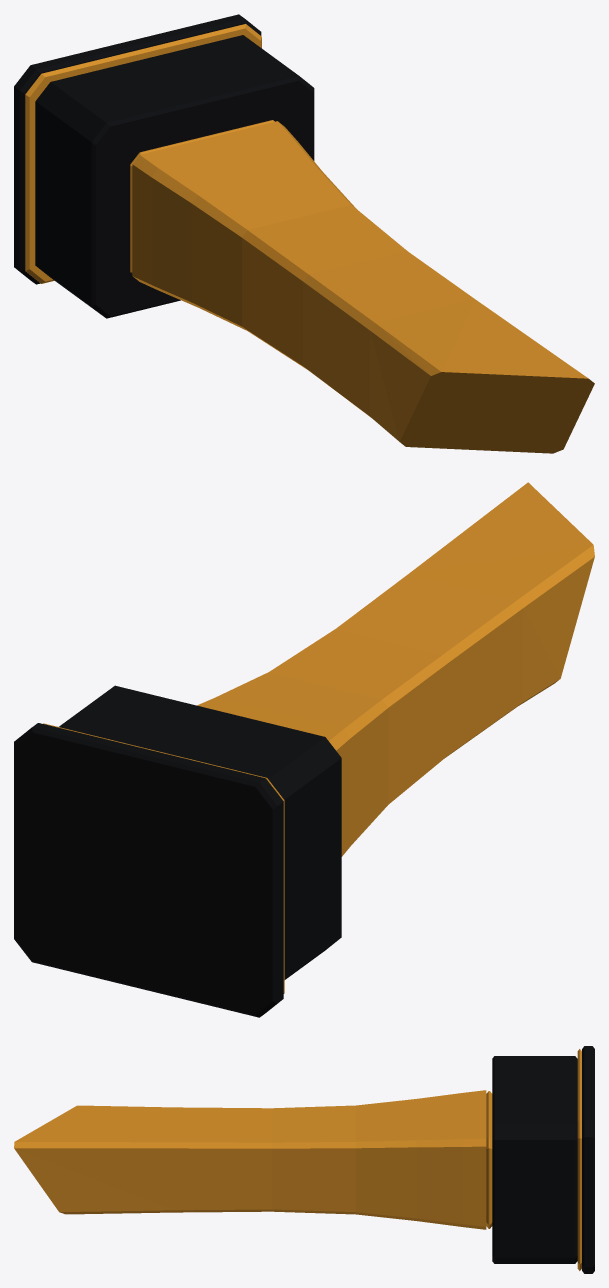
Rendered from basic-trophy.obj.
3 renders of one model, top to bottom at view 1: azimuth 30°, elevation 25°; view 2: azimuth 150°, elevation 25°; view 3: azimuth 270°, elevation 25°, orthographic. The views are drawn at different scales.
Parts seen in each view (by area): view 1: BasicTrophy; view 2: BasicTrophy; view 3: BasicTrophy.
Part boxes in pixels (left/top/right/bottom): BasicTrophy: left=14, top=14, right=594, bottom=453; BasicTrophy: left=14, top=482, right=594, bottom=1017; BasicTrophy: left=14, top=1046, right=594, bottom=1273.
Bounding box in the file's own units: 1.55 × 1.32 × 4.49.
